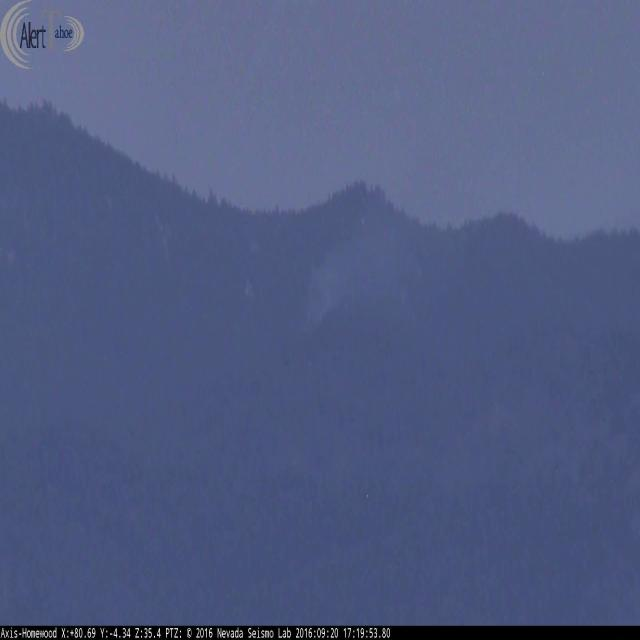smoke: (303, 176, 463, 335)
